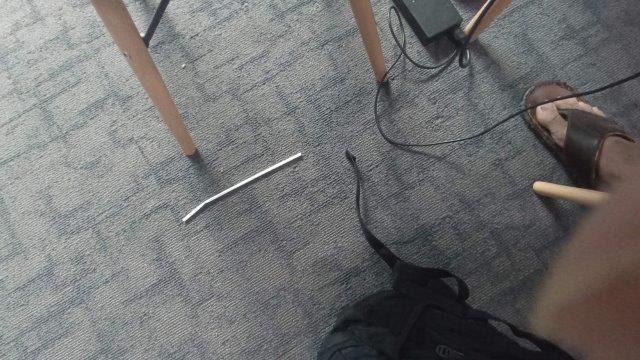sedotan: (183, 153, 301, 221)
